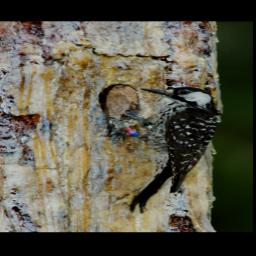Woodpecker: (109, 86, 220, 213)
